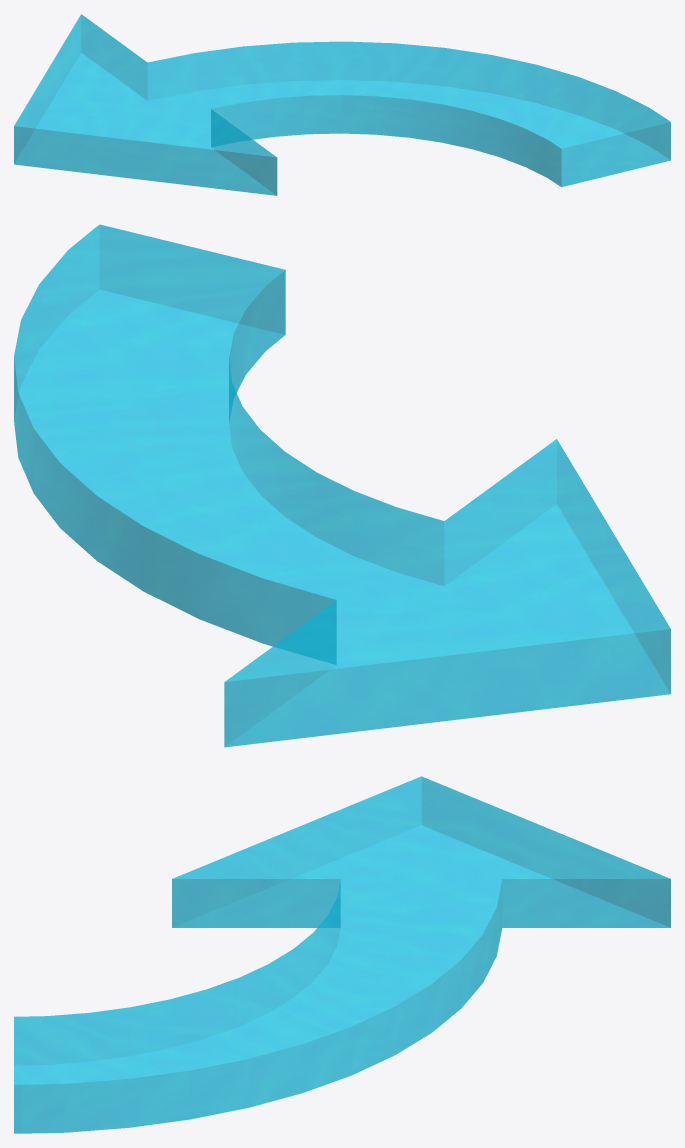
Rendered from Turn.fbx.
3 views of the same model, one above another, from view 1: azimuth 30°, elevation 25°; view 2: azimuth 150°, elevation 25°; view 3: azimuth 270°, elevation 25° (orthographic). The views are drawn at different scales.
Parts seen in each view (by area): view 1: Model; view 2: Model; view 3: Model.
Part boxes in pixels (x1,y1,x2,y2): Model: (14, 14, 670, 195); Model: (14, 224, 670, 747); Model: (14, 776, 670, 1133).
Size of the model in its own units: 108 by 8 by 97.38.
